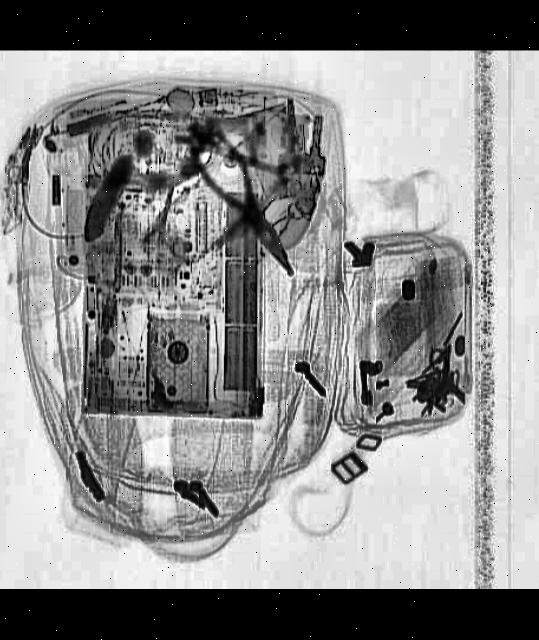Pliers: (187, 133, 313, 288)
